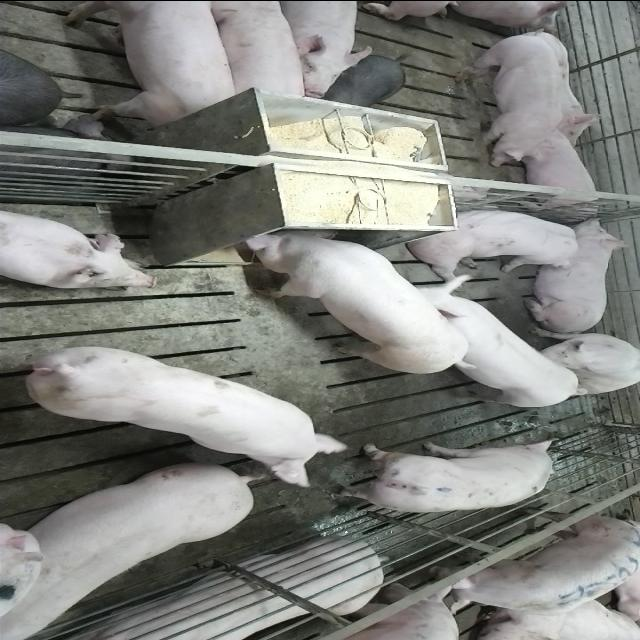Feeding: (240, 218, 470, 369)
Sitting: (407, 203, 580, 277), (524, 331, 638, 393)
Standing: (16, 344, 354, 489), (6, 458, 263, 634), (406, 274, 586, 408), (60, 2, 244, 128), (436, 515, 640, 618), (331, 437, 559, 515), (451, 26, 561, 166), (202, 3, 310, 107), (274, 0, 370, 99), (443, 597, 640, 640)
Sternal_lying: (60, 539, 469, 640), (0, 208, 158, 291), (520, 217, 632, 327), (509, 130, 605, 212)
